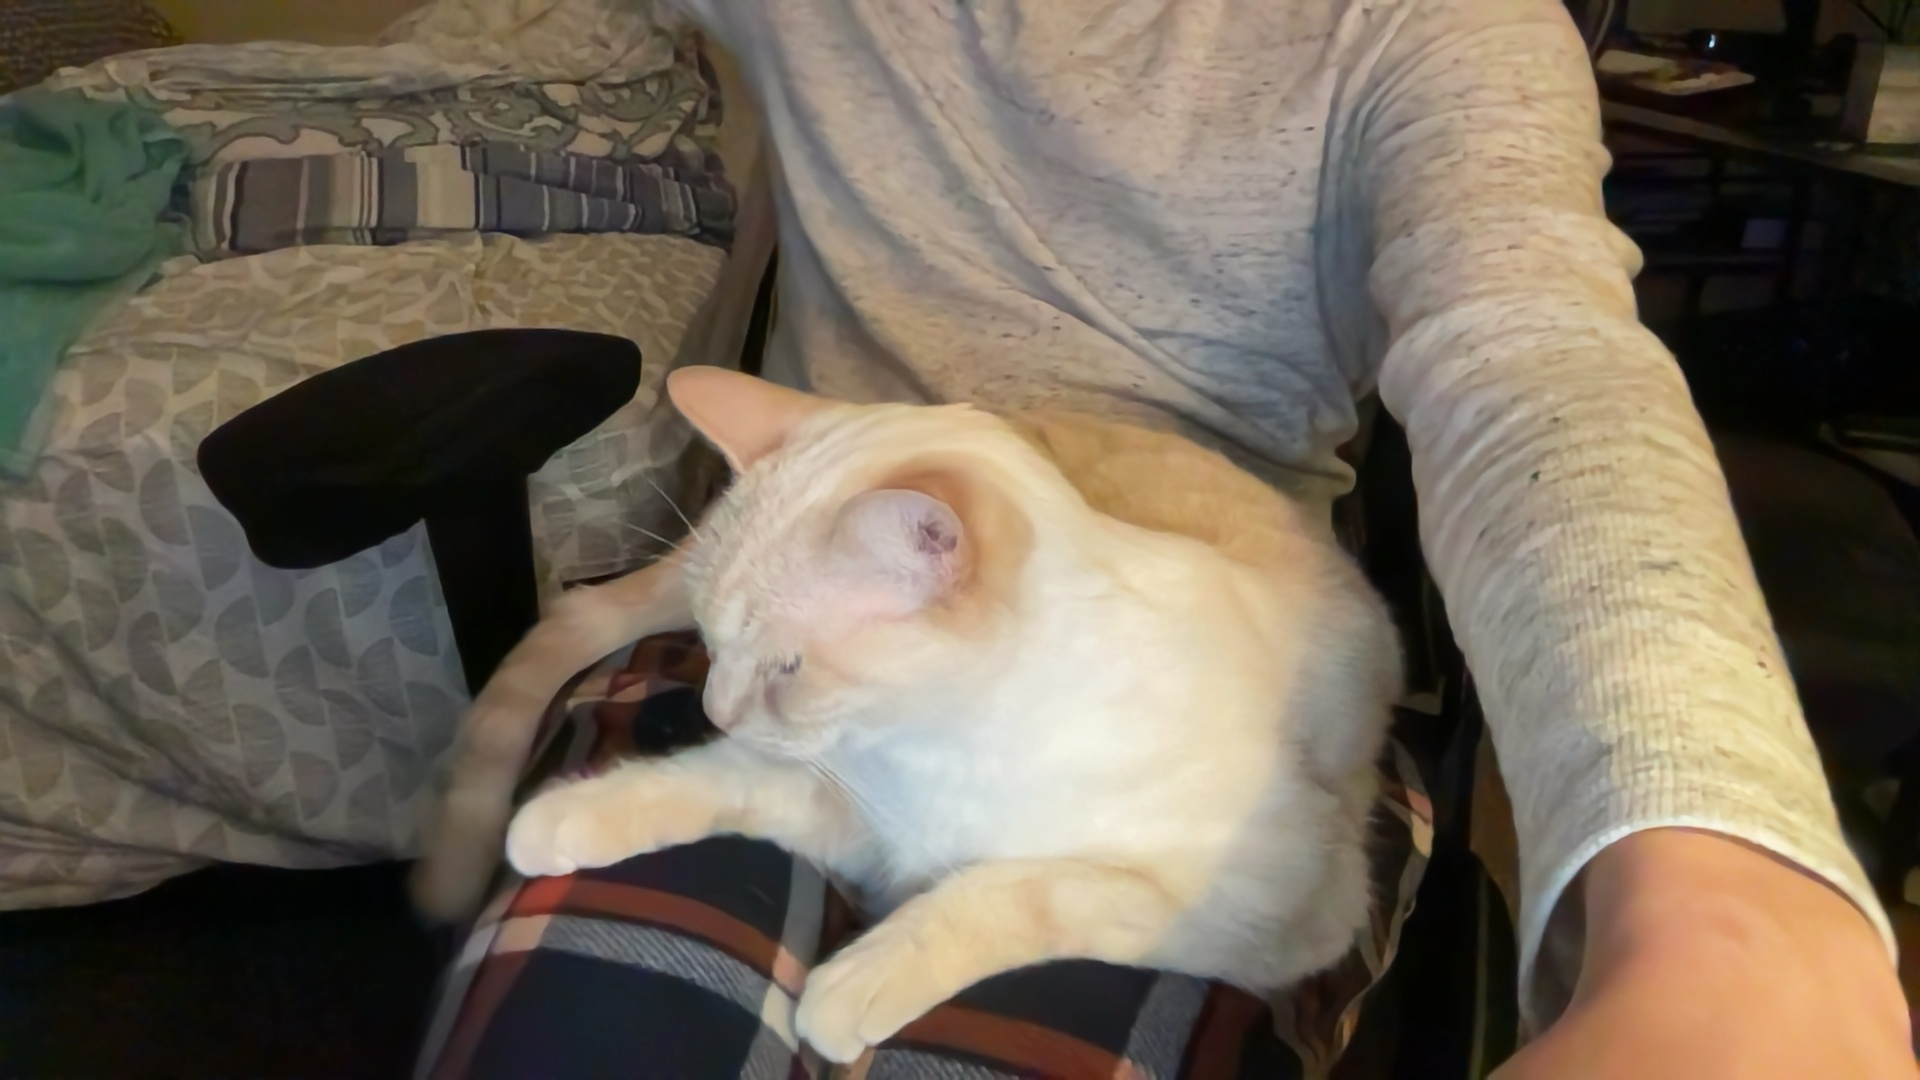cat: (487, 348, 1406, 1058)
